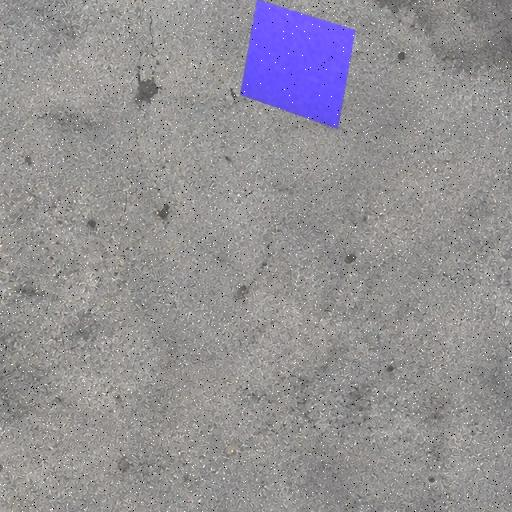BLUE_SQUARE: (239, 0, 356, 130)
